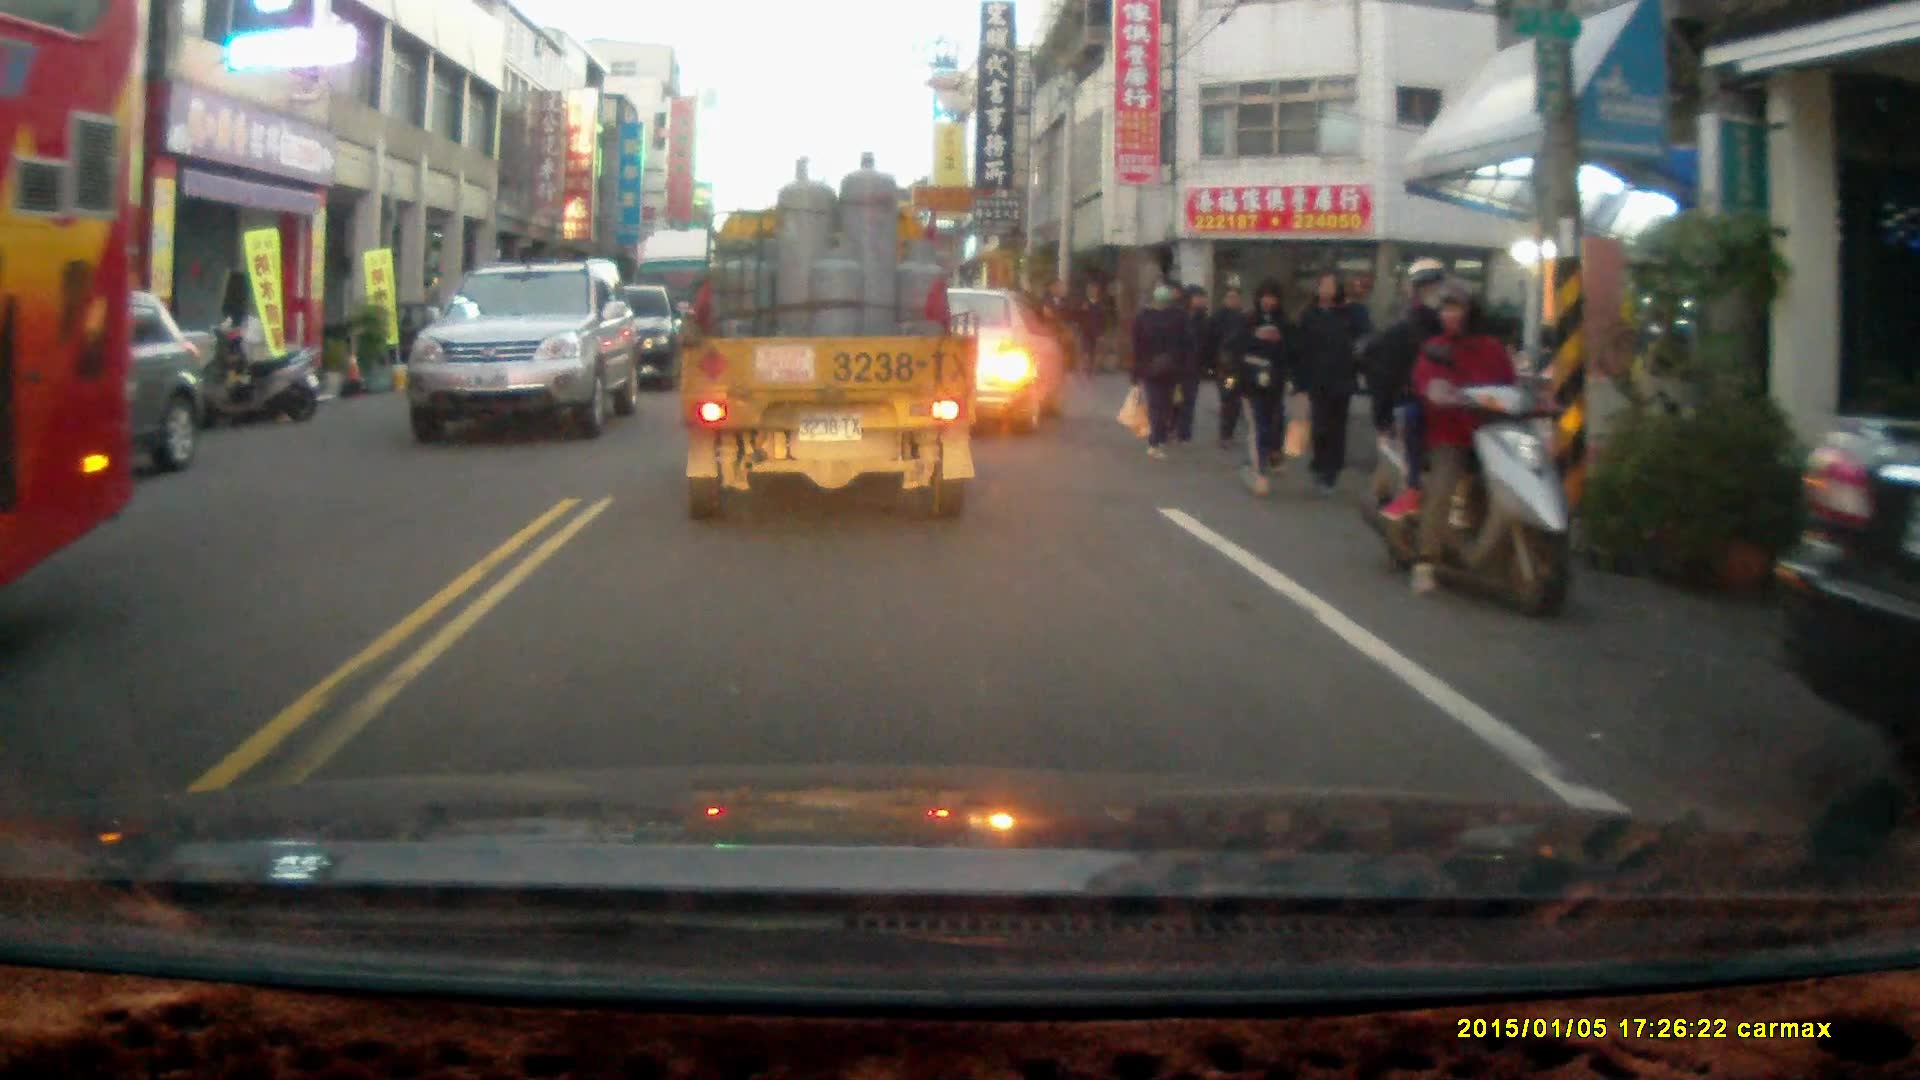pedestrian: (1285, 274, 1371, 497), (1226, 276, 1295, 494), (1125, 273, 1190, 459), (1201, 282, 1263, 445), (1165, 285, 1214, 447), (1038, 279, 1077, 385), (1072, 279, 1108, 386)
rider: (1350, 256, 1573, 614)
vehicle: (676, 148, 979, 525), (1, 7, 143, 583), (1772, 405, 1920, 754), (410, 261, 645, 445), (16, 282, 207, 475), (839, 286, 1073, 440)
